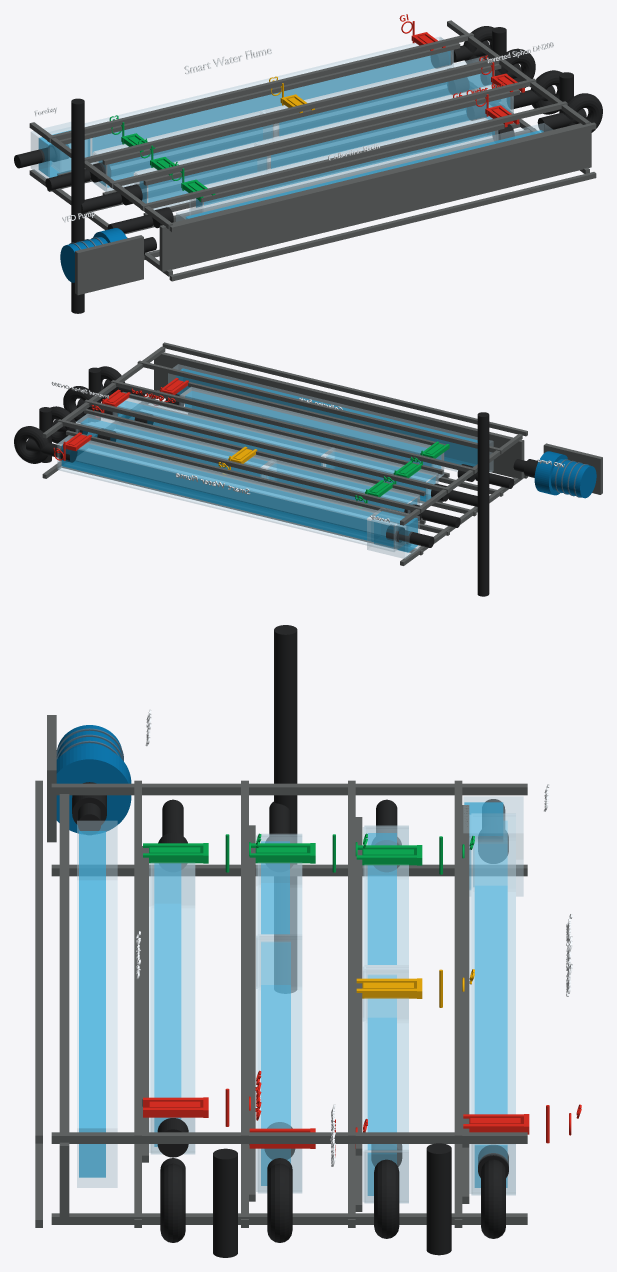
The model's file is smart-water-flume-blender.glb.
3 renders of one model, top to bottom at view 1: azimuth 30°, elevation 25°; view 2: azimuth 150°, elevation 25°; view 3: azimuth 270°, elevation 25°, orthographic. The views are drawn at different scales.
Visible parts, largest first — view 1: Steel_Frame_Base_Skid, Channel_01_Main_Upper_L8m_Glass_Bottom, Channel_01_Main_Upper_L8m_Water_SemiTransparent, Channel_05_Lower_Right_L5m_Glass_Bottom, Channel_03_Middle_Right_L4p5m_Glass_Bottom, Collection_Basin_Glass, Steel_Frame_Front_CrossBeam_Y-1.32, Steel_Frame_Back_CrossBeam_Y-1.32, Channel_05_Lower_Right_L5m_Water_SemiTransparent, Steel_Frame_Front_CrossBeam_Y0.8, VariableFrequencyPump_Base_Plate, Steel_Frame_Front_CrossBeam_Y-0.3 (+47 smaller); view 2: Steel_Frame_Base_Skid, Channel_01_Main_Upper_L8m_Water_SemiTransparent, Channel_01_Main_Upper_L8m_Glass_FrontWall, Collection_Basin_Glass, Channel_06_Bottom_L6m_Water_SemiTransparent, Channel_06_Bottom_L6m_Glass_FrontWall, Collection_Basin_Water_SemiTransparent, Channel_05_Lower_Right_L5m_Glass_FrontWall, Channel_05_Lower_Right_L5m_Water_SemiTransparent, Pipe_Left_Vertical_Riser_DN200, Steel_Frame_Front_CrossBeam_Y3.0, Steel_Frame_Front_CrossBeam_Y1.9 (+45 smaller); view 3: Collection_Basin_Glass, Channel_01_Main_Upper_L8m_Glass_FrontWall, Channel_06_Bottom_L6m_Glass_FrontWall, Channel_01_Main_Upper_L8m_Water_SemiTransparent, Collection_Basin_Water_SemiTransparent, Channel_05_Lower_Right_L5m_Glass_FrontWall, Channel_03_Middle_Right_L4p5m_Glass_FrontWall, Pipe_Left_Vertical_Riser_DN200, Channel_06_Bottom_L6m_Water_SemiTransparent, Channel_05_Lower_Right_L5m_Water_SemiTransparent, Steel_Frame_Front_Post_X-4.25, Channel_02_Middle_Left_L3p5m_Glass_FrontWall (+39 smaller).
Part boxes in pixels (<box>): Steel_Frame_Base_Skid: <box>159,122,591,271</box>; Channel_01_Main_Upper_L8m_Glass_Bottom: <box>62,50,453,169</box>; Channel_01_Main_Upper_L8m_Water_SemiTransparent: <box>92,51,450,152</box>; Channel_05_Lower_Right_L5m_Glass_Bottom: <box>268,96,513,172</box>; Channel_03_Middle_Right_L4p5m_Glass_Bottom: <box>273,71,491,139</box>; Collection_Basin_Glass: <box>176,123,552,221</box>; Steel_Frame_Front_CrossBeam_Y-1.32: <box>169,122,596,232</box>; Steel_Frame_Back_CrossBeam_Y-1.32: <box>169,172,596,281</box>; Channel_05_Lower_Right_L5m_Water_SemiTransparent: <box>271,97,509,168</box>; Steel_Frame_Front_CrossBeam_Y0.8: <box>109,78,536,188</box>; VariableFrequencyPump_Base_Plate: <box>75,235,143,295</box>; Steel_Frame_Front_CrossBeam_Y-0.3: <box>140,101,567,210</box>; Steel_Frame_Base_Skid: <box>154,352,524,479</box>; Channel_01_Main_Upper_L8m_Water_SemiTransparent: <box>61,443,395,546</box>; Channel_01_Main_Upper_L8m_Glass_FrontWall: <box>58,435,401,526</box>; Collection_Basin_Glass: <box>168,364,493,472</box>; Channel_06_Bottom_L6m_Water_SemiTransparent: <box>185,391,440,468</box>; Channel_06_Bottom_L6m_Glass_FrontWall: <box>180,387,430,454</box>; Collection_Basin_Water_SemiTransparent: <box>176,368,477,466</box>; Channel_05_Lower_Right_L5m_Glass_FrontWall: <box>117,398,334,456</box>; Channel_05_Lower_Right_L5m_Water_SemiTransparent: <box>117,401,327,466</box>; Pipe_Left_Vertical_Riser_DN200: <box>477,412,489,596</box>; Steel_Frame_Front_CrossBeam_Y3.0: <box>57,419,423,512</box>; Steel_Frame_Front_CrossBeam_Y1.9: <box>84,399,449,493</box>; Collection_Basin_Glass: <box>77,821,117,1187</box>; Channel_01_Main_Upper_L8m_Glass_FrontWall: <box>471,813,515,1144</box>; Channel_06_Bottom_L6m_Glass_FrontWall: <box>151,862,194,1097</box>; Channel_01_Main_Upper_L8m_Water_SemiTransparent: <box>475,821,507,1187</box>; Collection_Basin_Water_SemiTransparent: <box>79,831,105,1177</box>; Channel_05_Lower_Right_L5m_Glass_FrontWall: <box>258,934,301,1128</box>; Channel_03_Middle_Right_L4p5m_Glass_FrontWall: <box>364,965,408,1152</box>; Pipe_Left_Vertical_Riser_DN200: <box>274,625,297,993</box>; Channel_06_Bottom_L6m_Water_SemiTransparent: <box>154,863,180,1146</box>; Channel_05_Lower_Right_L5m_Water_SemiTransparent: <box>261,942,290,1185</box>; Steel_Frame_Front_Post_X-4.25: <box>51,783,527,795</box>; Channel_02_Middle_Left_L3p5m_Glass_FrontWall: <box>364,825,408,971</box>.
Bounding box in the file's own units: 11.43 × 4.08 × 5.63.
